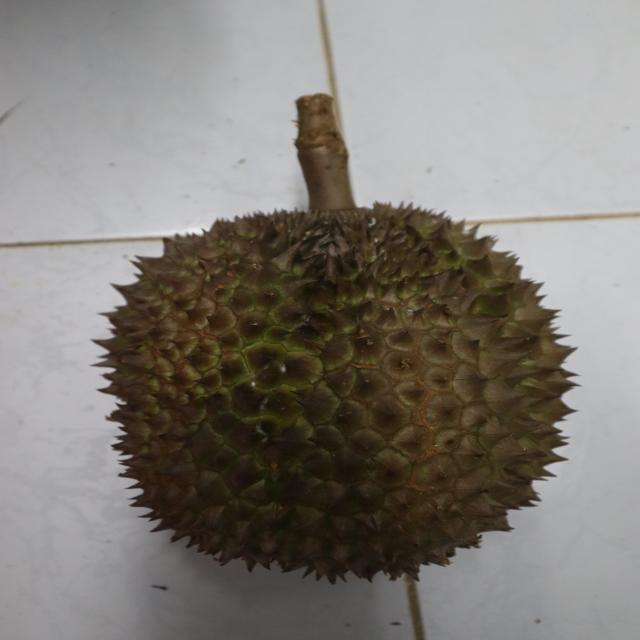mature: (88, 200, 579, 583)
